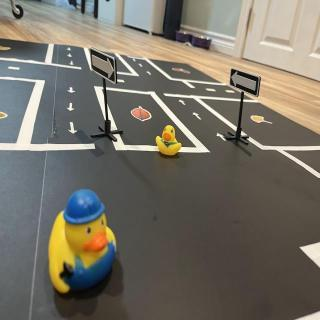duck_regular: (157, 125, 184, 159)
duck_specialty: (48, 191, 118, 299)
road_oneway: (69, 121, 80, 137), (216, 131, 228, 145), (194, 111, 205, 123), (66, 101, 76, 114), (178, 100, 189, 108), (68, 86, 76, 96), (146, 71, 154, 79), (139, 63, 145, 71), (67, 47, 73, 53), (69, 54, 74, 60), (71, 61, 76, 67)
sign_oneway_left: (231, 70, 262, 99)
sign_oneway_right: (87, 51, 119, 85)
